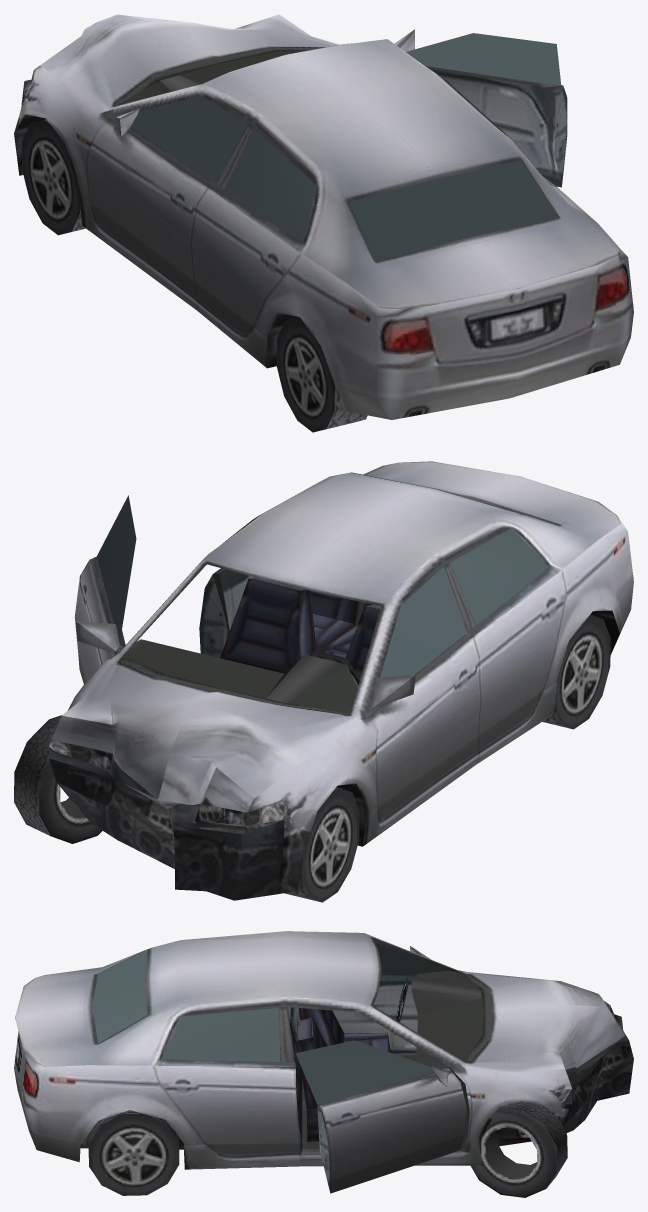
Rendered from p54_30_sedan_modern_damaged_grey.glb.
The picture shows the model from 3 angles, top to bottom: view 1: azimuth 30°, elevation 25°; view 2: azimuth 150°, elevation 25°; view 3: azimuth 270°, elevation 25°; orthographic projection. The views are drawn at different scales.
Parts seen in each view (by area): view 1: Body, Glass; view 2: Body, Glass; view 3: Body, Glass.
Part boxes in pixels (<box>): Body: <box>14,14,633,432</box>; Glass: <box>131,33,561,260</box>; Body: <box>14,461,633,902</box>; Glass: <box>96,490,548,677</box>; Body: <box>14,931,633,1197</box>; Glass: <box>92,942,448,1104</box>.
Bounding box in the file's own units: 2.78 × 1.58 × 4.82.
Materials: 2 (2 with a texture image).
